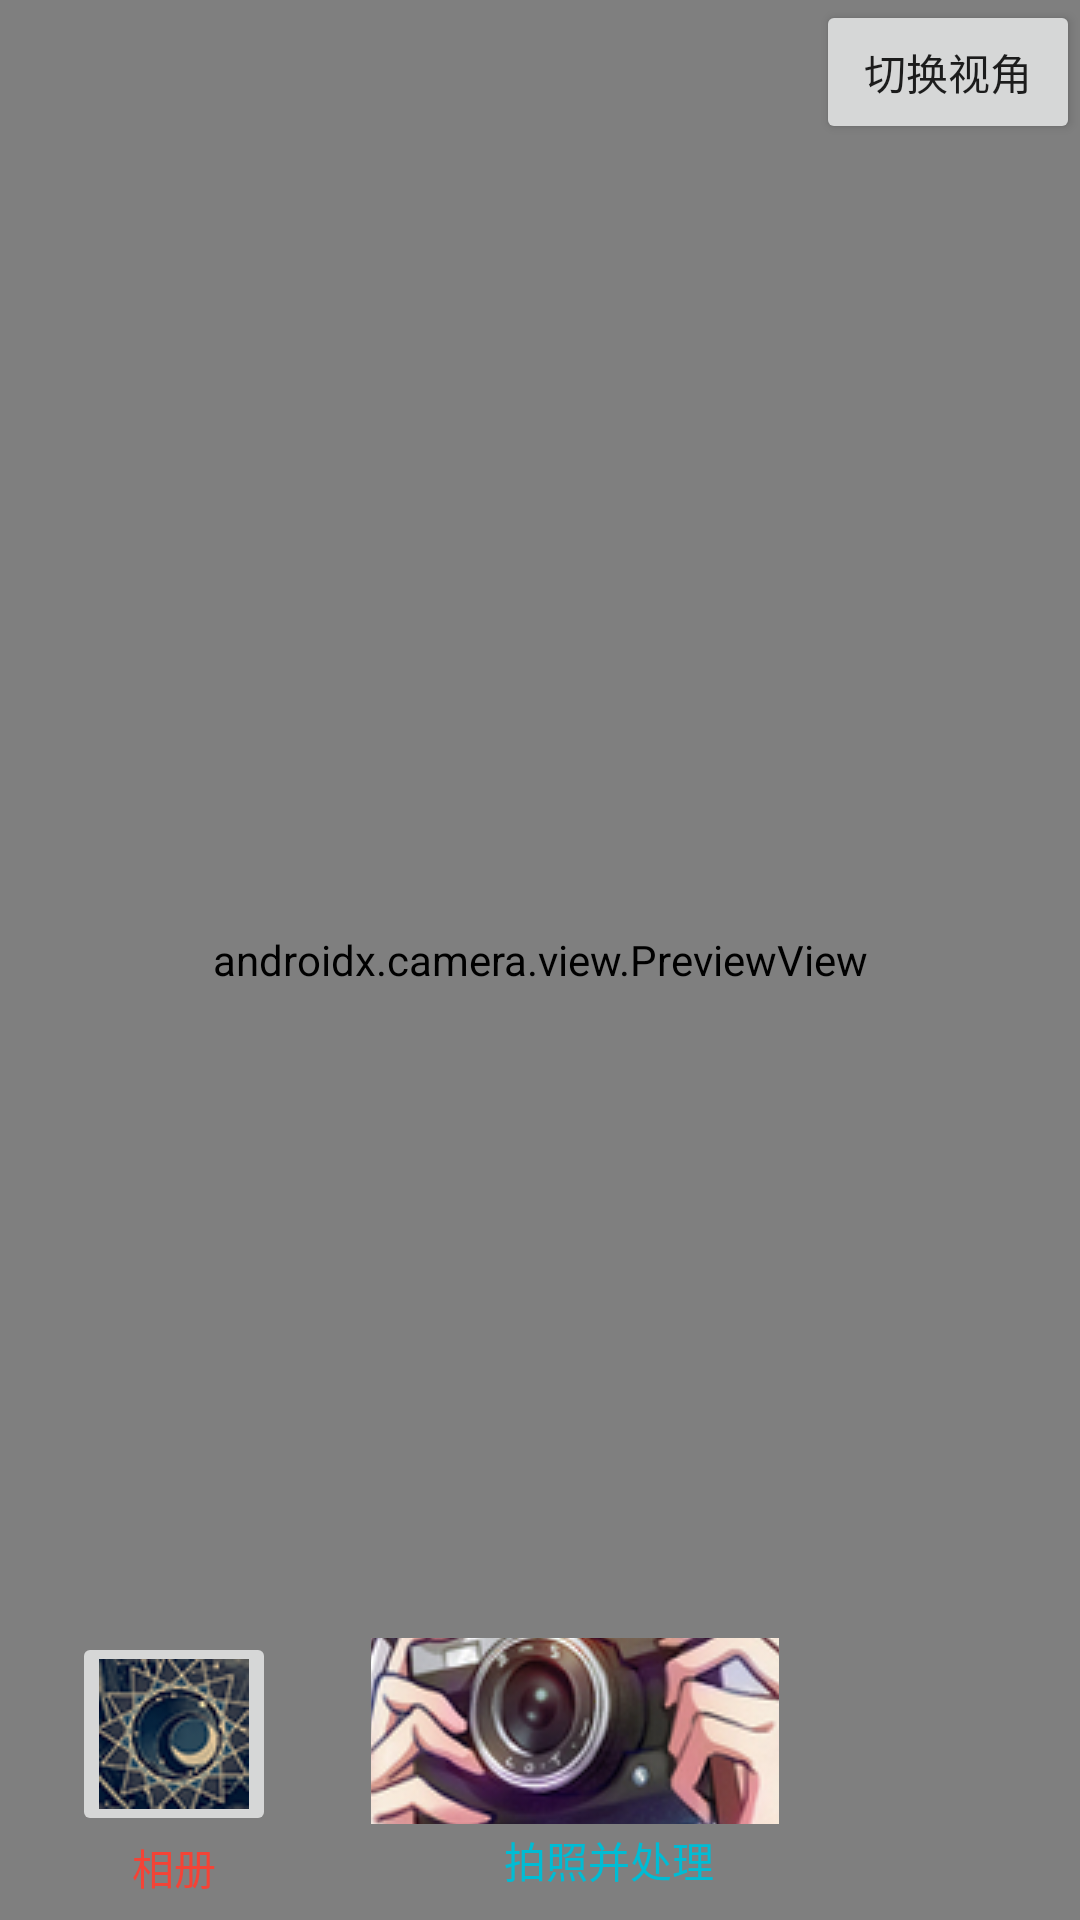

Locate icon controls on the screen. Image size 1080px x 1920px, boxes as (x1, y1, x2, y2).
starsun: (84, 1650, 264, 1818)
